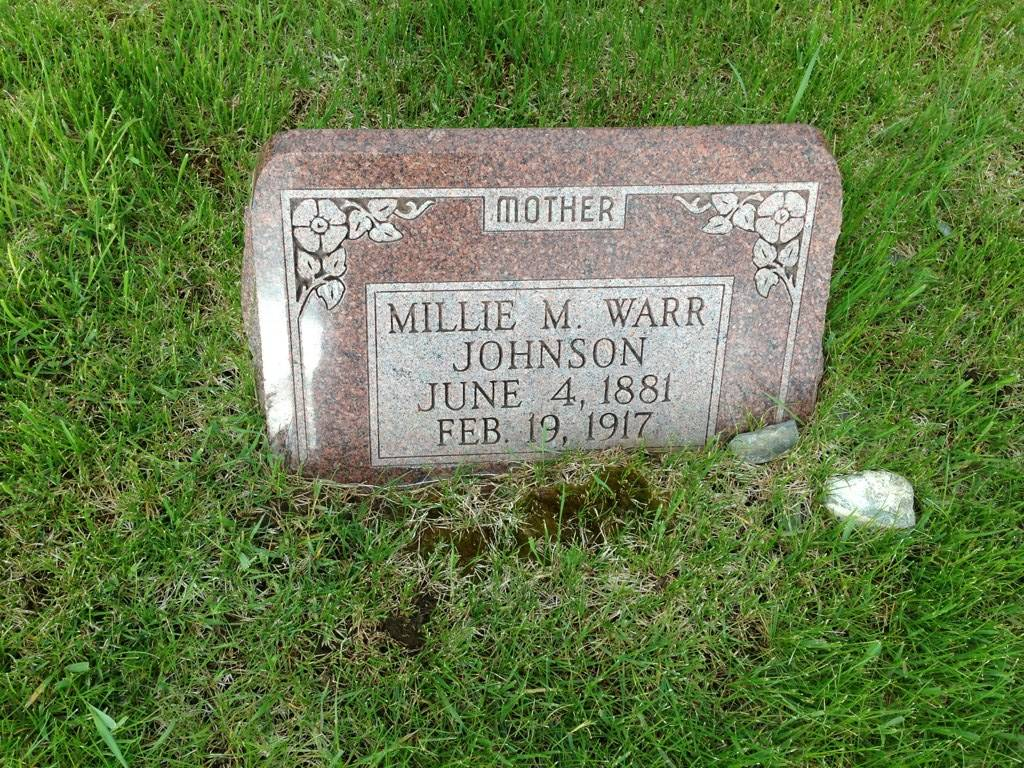upright: (249, 124, 843, 501)
